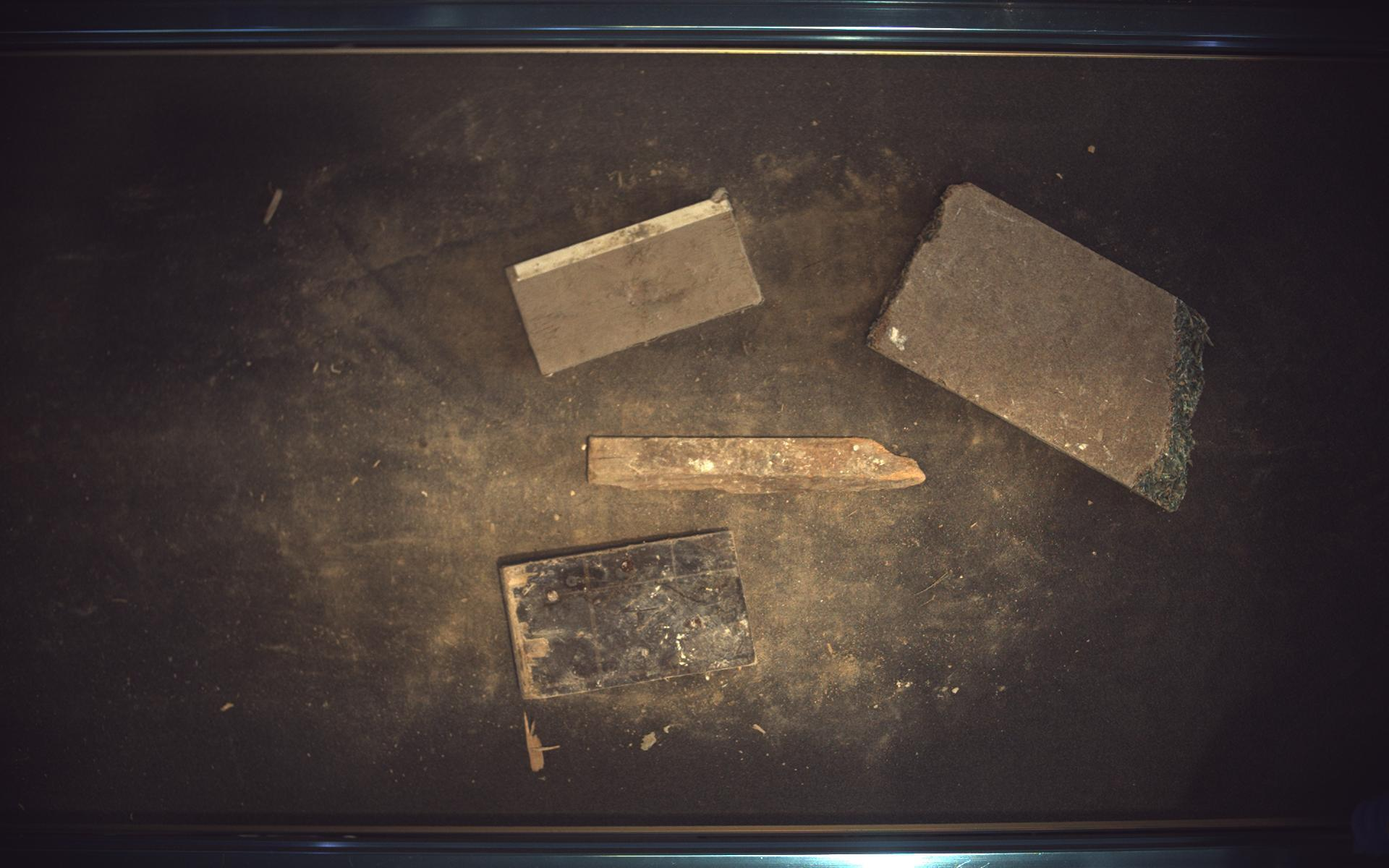wood: (871, 182, 1212, 511)
